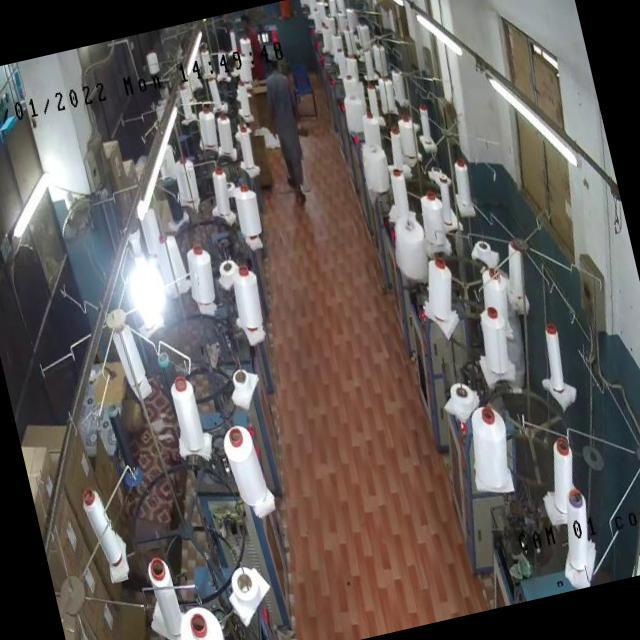person: (254, 48, 315, 202)
